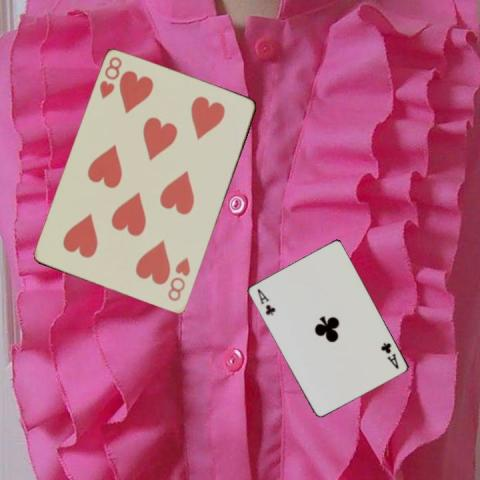8h: (165, 255, 192, 303), (97, 54, 124, 101)
Ac: (254, 285, 276, 317), (378, 340, 400, 370)
